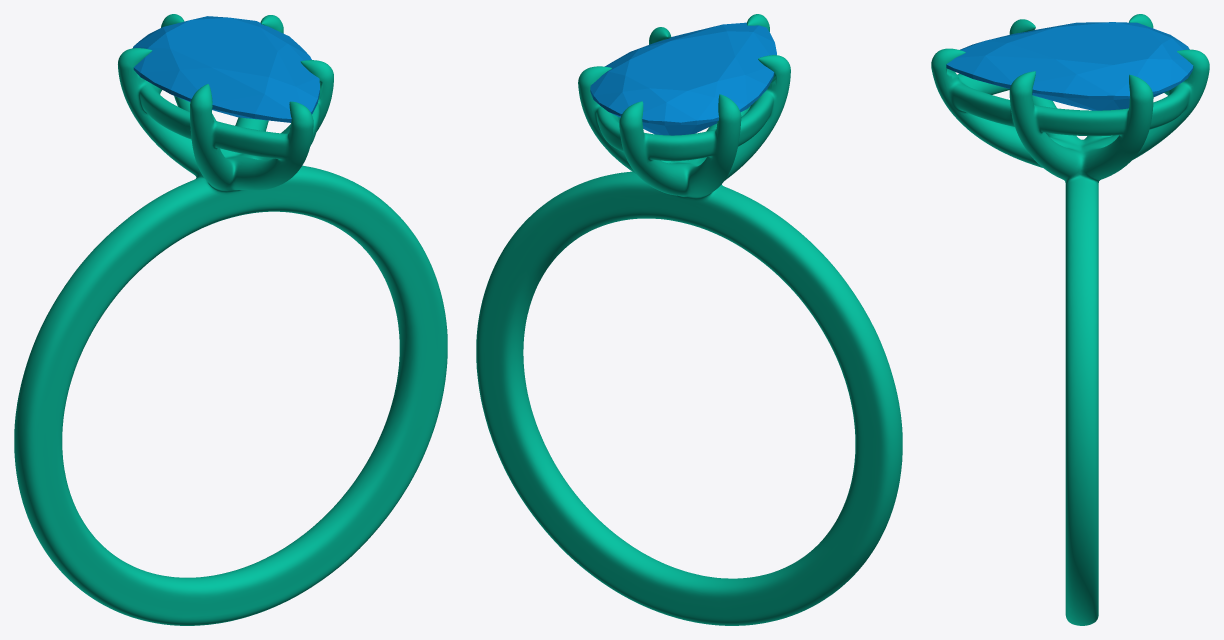
Rendered from BE17652_PE_200ct_RENDER.glb.
3 renders of one model, left to right at view 1: azimuth 30°, elevation 25°; view 2: azimuth 150°, elevation 25°; view 3: azimuth 270°, elevation 25°, orthographic.
Visible parts, largest first — view 1: Metal 01, CS_Diamond_Pear; view 2: Metal 01, CS_Diamond_Pear; view 3: Metal 01, CS_Diamond_Pear.
Boxes of the visible parts, left/top/right/bottom form: Metal 01: left=14, top=14, right=447, bottom=625; CS_Diamond_Pear: left=133, top=16, right=319, bottom=122; Metal 01: left=476, top=14, right=902, bottom=625; CS_Diamond_Pear: left=590, top=22, right=776, bottom=135; Metal 01: left=931, top=14, right=1209, bottom=625; CS_Diamond_Pear: left=946, top=22, right=1193, bottom=110.
Size of the model in its own units: 20.49 by 26.1 by 11.77.
